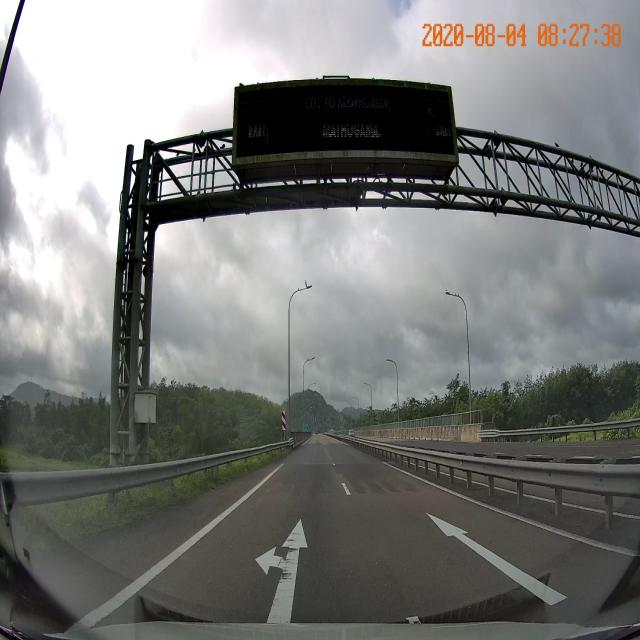forward_lft: (94, 491, 425, 624)
